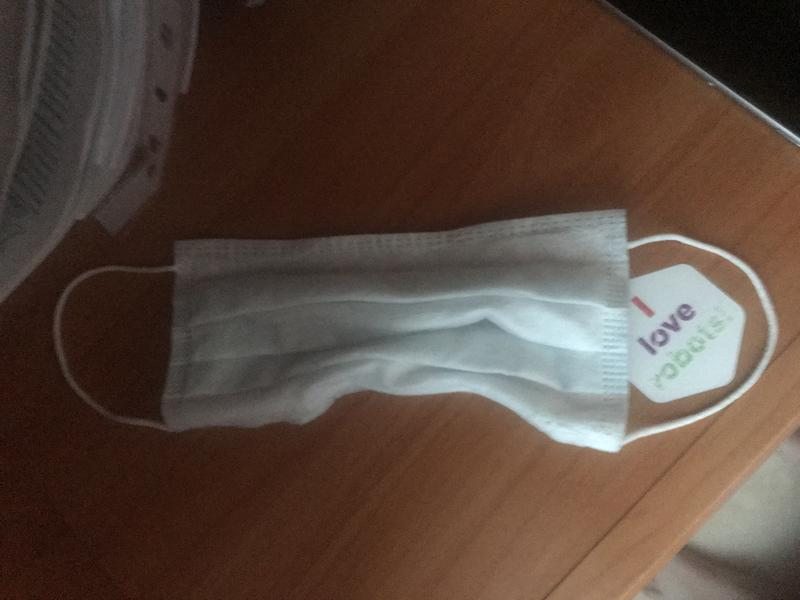medical_mask: (51, 210, 777, 456)
